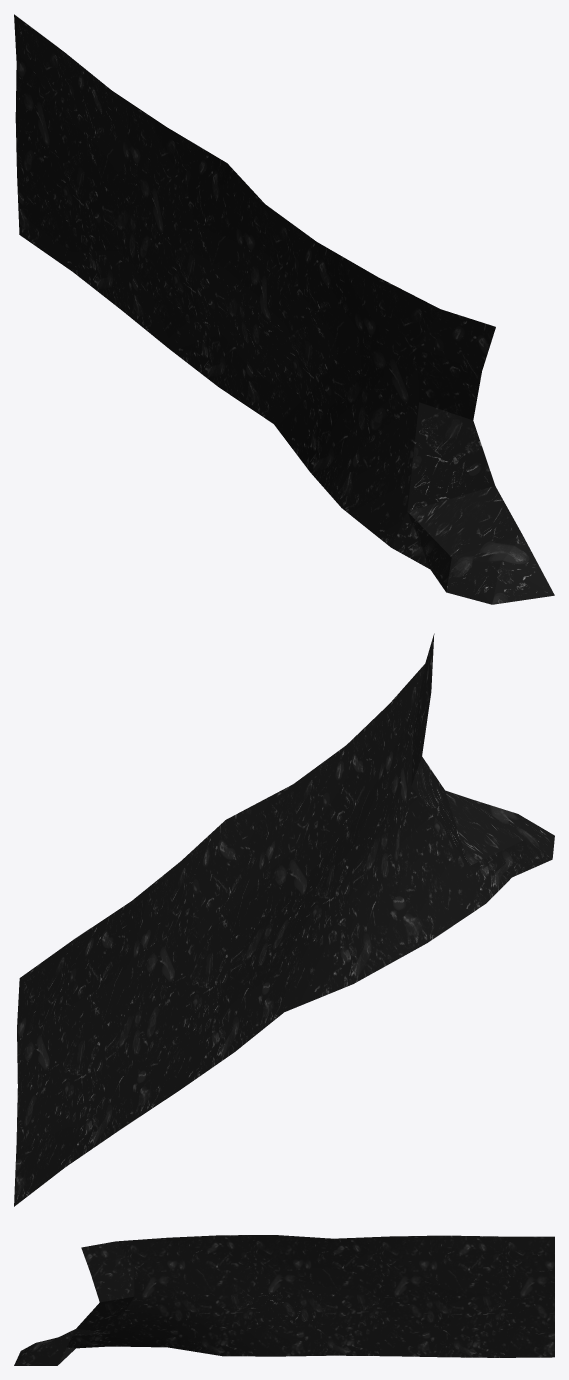
The model's file is 未采煤层.FBX.
The picture shows the model from 3 angles, top to bottom: view 1: azimuth 30°, elevation 25°; view 2: azimuth 150°, elevation 25°; view 3: azimuth 270°, elevation 25°; orthographic projection. The views are drawn at different scales.
Visible parts, largest first — view 1: 未采煤层; view 2: 未采煤层; view 3: 未采煤层.
Part boxes in pixels (<box>): 未采煤层: <box>14,14,554,604</box>; 未采煤层: <box>14,633,554,1206</box>; 未采煤层: <box>14,1235,554,1365</box>.
Bounding box in the file's own units: 1.74 × 4.64 × 18.5.
